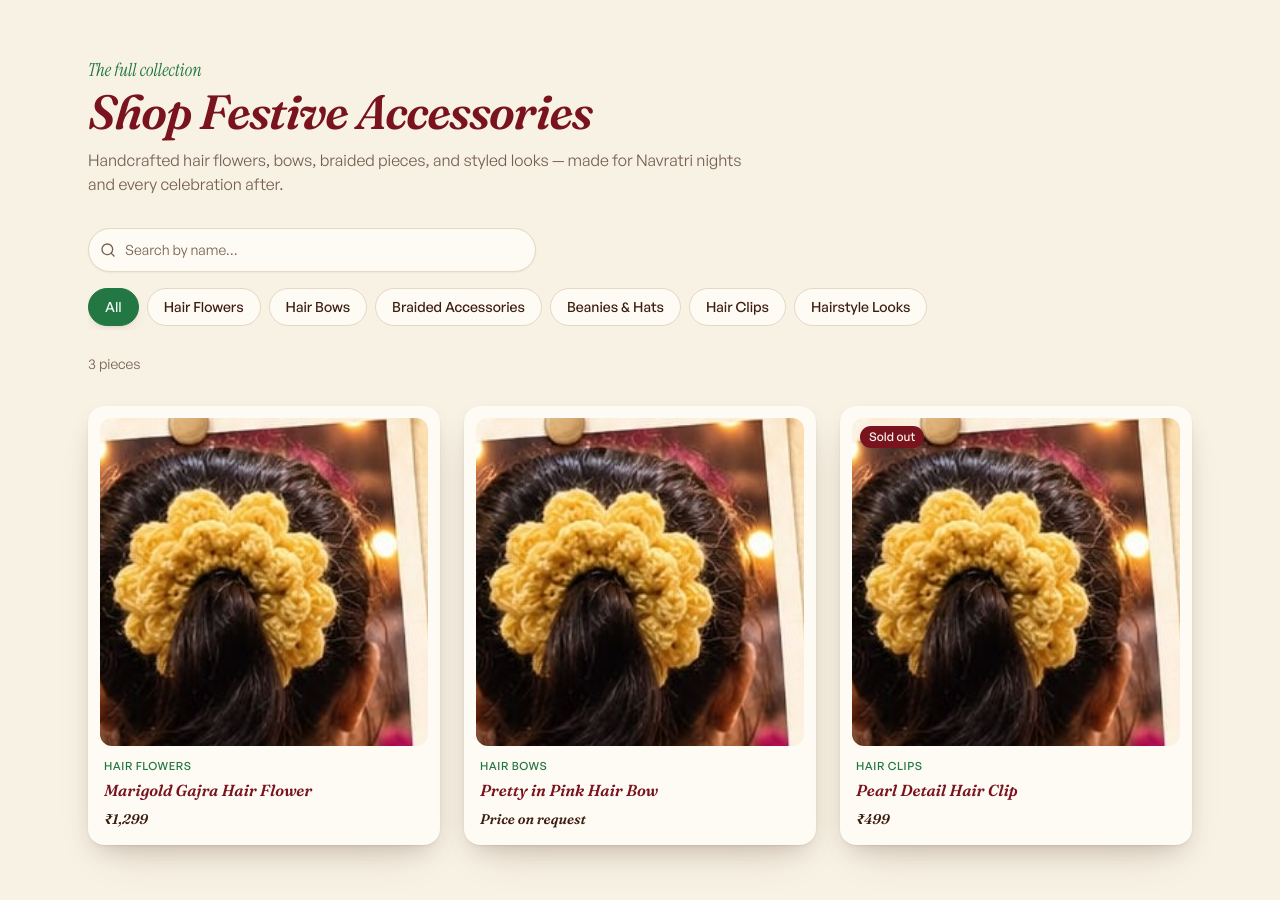
Test: ShopPage › shows an empty state when nothing matches and can reset
Expected: the heading "Marigold Gajra Hair Flower" is shown, [104,780,312,800]
In the search field named "Search products by name": [312, 250] box [88,228,536,272], type "zzz-nothing"
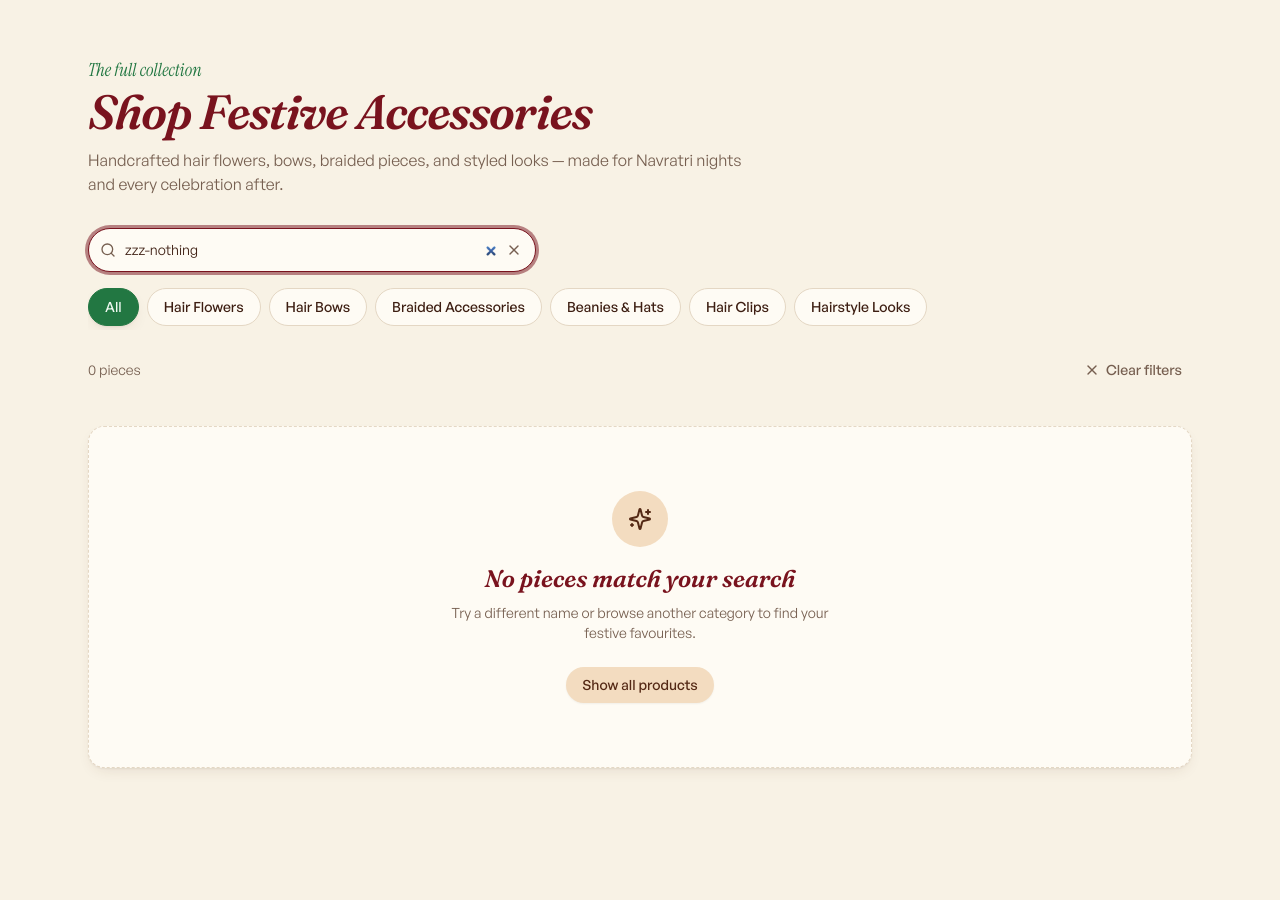
Expected: the heading "No pieces match your search" is shown, [485,564,795,593]
Click the button "Show all products": [640, 685] box [566,667,714,703]
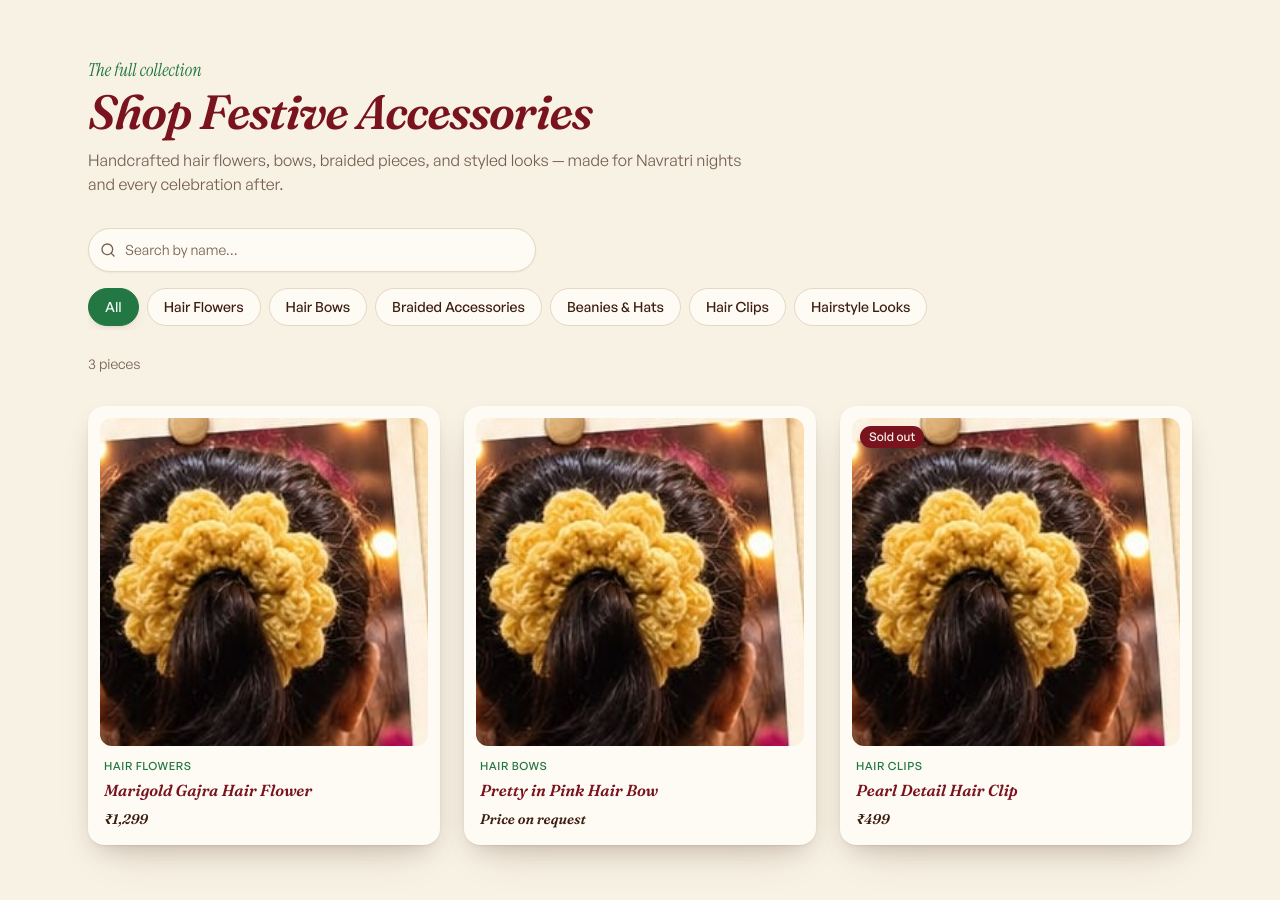
Expected: the heading "Marigold Gajra Hair Flower" is shown, [104,780,312,800]
